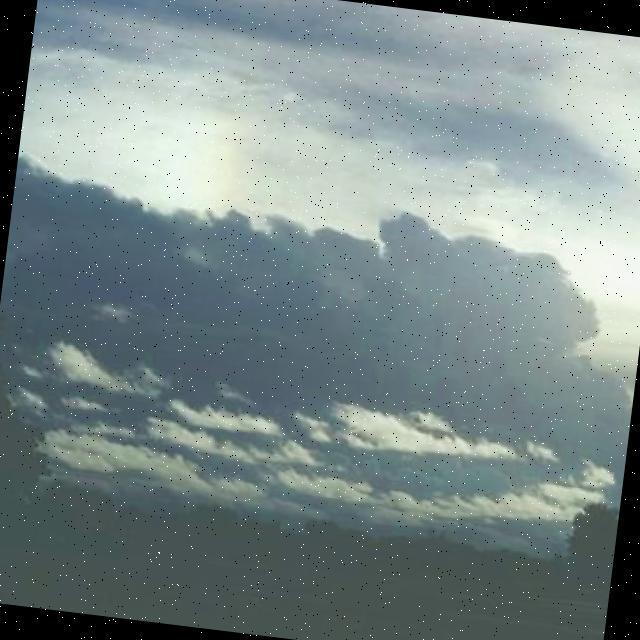St: (1, 38, 640, 578)
